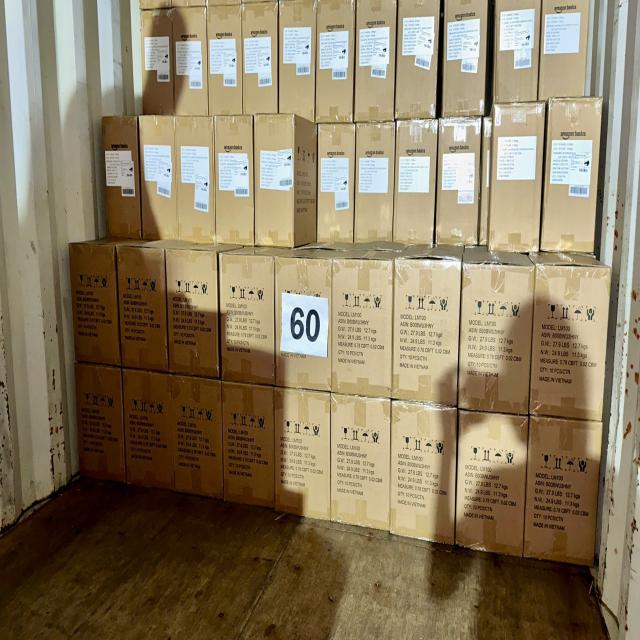Carton: (533, 264, 608, 420), (528, 419, 602, 565), (462, 265, 534, 415), (456, 414, 527, 558), (391, 405, 459, 548), (393, 261, 459, 407), (547, 99, 601, 258), (334, 261, 395, 399), (332, 394, 394, 528), (220, 252, 278, 386), (492, 104, 542, 254), (273, 393, 330, 524), (276, 256, 332, 389), (168, 248, 222, 377), (223, 382, 278, 508), (118, 246, 170, 374), (66, 244, 120, 366), (172, 374, 225, 497), (251, 112, 298, 248), (123, 370, 175, 488), (73, 364, 124, 483), (440, 117, 484, 245), (441, 1, 486, 117), (399, 0, 442, 120), (397, 120, 438, 245), (214, 117, 253, 248), (543, 0, 594, 99), (356, 122, 395, 244), (493, 1, 539, 104), (179, 117, 216, 245), (356, 0, 396, 118), (104, 119, 143, 240), (140, 116, 176, 244), (319, 0, 357, 120), (279, 0, 316, 118), (320, 123, 356, 243), (239, 6, 277, 117), (174, 6, 210, 115), (208, 5, 242, 114), (140, 11, 172, 119)
